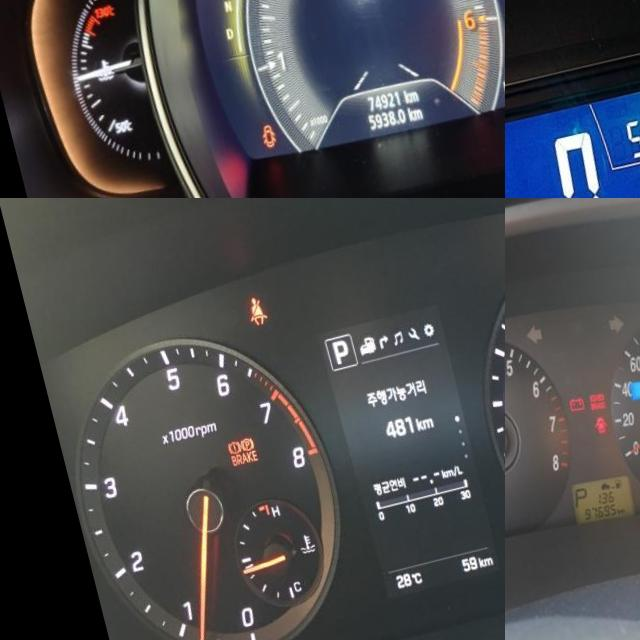Doors: (236, 134, 257, 162), (575, 429, 593, 450)
